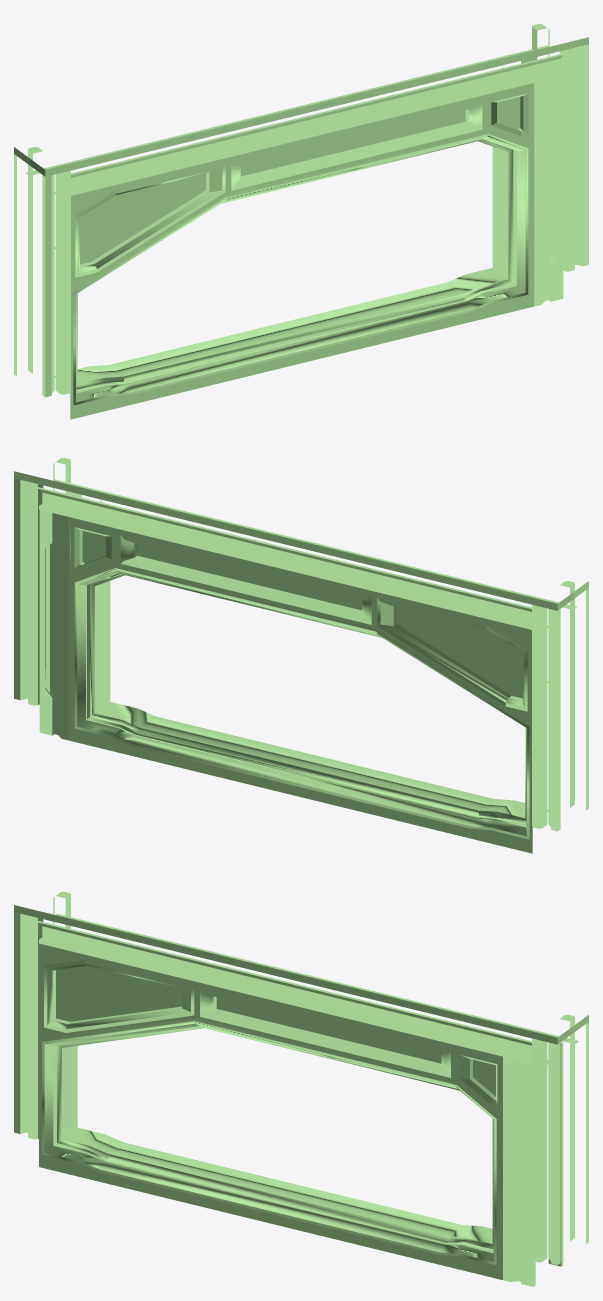
File: addon_rib_a_lod4.glb
3 views of the same model, one above another, from view 1: azimuth 30°, elevation 25°; view 2: azimuth 150°, elevation 25°; view 3: azimuth 330°, elevation 25° (orthographic).
Bounding box in the file's own units: 20 × 9 × 2.37.
